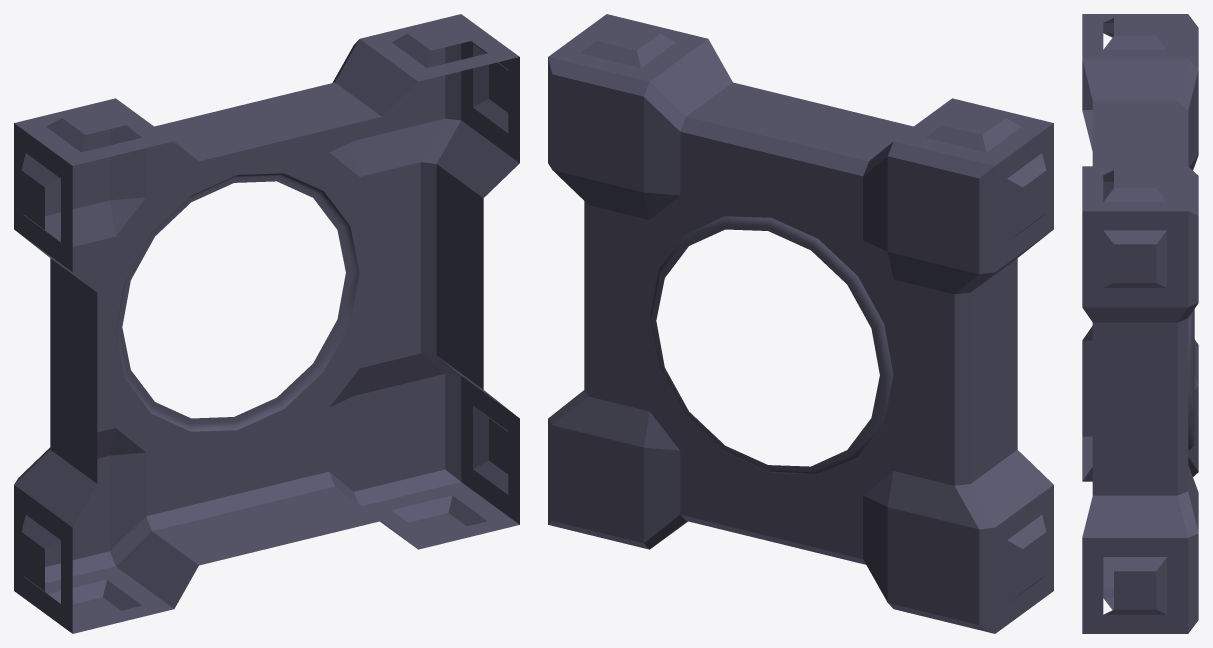
File: litsat.fbx
3 views of the same model, side by side, from view 1: azimuth 30°, elevation 25°; view 2: azimuth 150°, elevation 25°; view 3: azimuth 270°, elevation 25° (orthographic). The views are drawn at different scales.
Parts seen in each view (by area): view 1: litsat; view 2: litsat; view 3: litsat.
Boxes of the visible parts, <box> form: litsat: <box>14,14,519,633</box>; litsat: <box>548,14,1053,633</box>; litsat: <box>1082,14,1198,633</box>.
Bounding box in the file's own units: 115 × 115 × 27.5.
